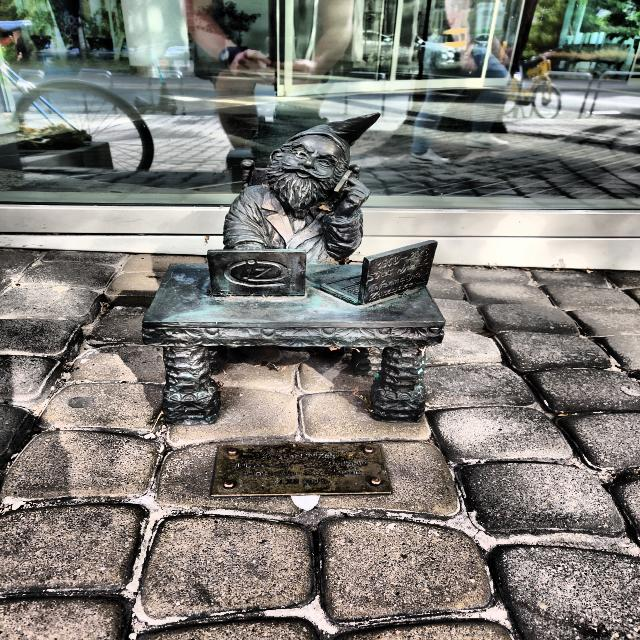WIZek: (143, 114, 445, 424)
